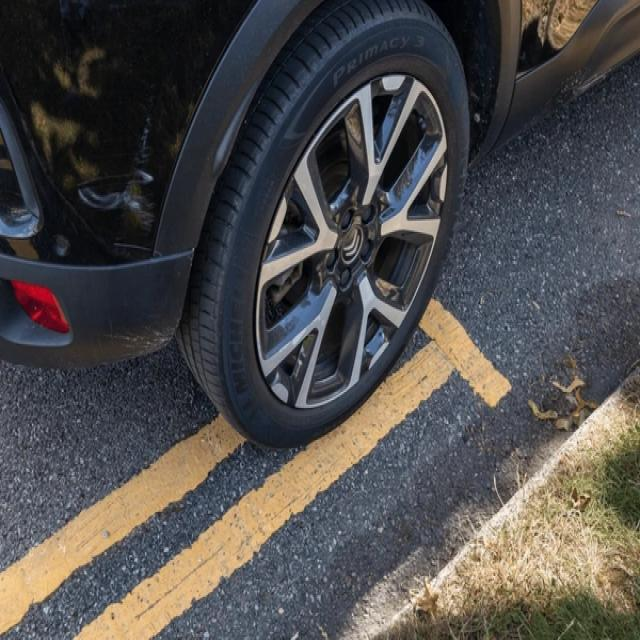citroen: (342, 229, 364, 264)
